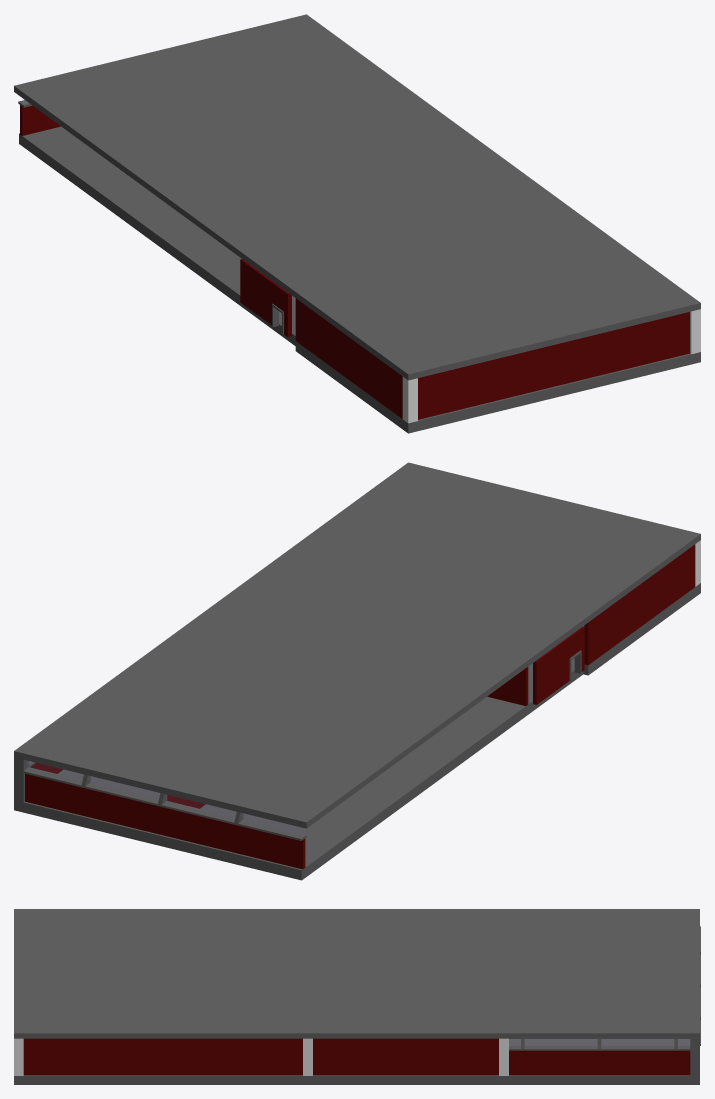
3 renders of one model, top to bottom at view 1: azimuth 30°, elevation 25°; view 2: azimuth 150°, elevation 25°; view 3: azimuth 270°, elevation 25°, orthographic. The views are drawn at different scales.
Visible parts, largest first — view 1: Крыща, LM, Стена_л_3, Стена_л_2, Взод_на_склад, Стена_, Балка_4_2м__1_Инстанция_5; view 2: Крыща, LM, Стена_, Стена_л_2, Рамка_, Взод_на_склад, Стекло, Destroying; view 3: Крыща, Стена_л_1, LM, Стена_л, Стена__1, Рамка__2, Стекло_2, Балка_4_2м__1, Балка_4_2м__1_Инстанция_4, Балка_4_2м__1_Инстанция_2, Балка_4_2м__1_Инстанция_1.
Part boxes in pixels (x1,y1,x2,y2): Крыща: [14, 14, 700, 380]; LM: [19, 126, 700, 433]; Стена_л_3: [418, 312, 689, 419]; Стена_л_2: [295, 298, 402, 418]; Взод_на_склад: [240, 259, 291, 337]; Стена_: [20, 105, 60, 135]; Балка_4_2м__1_Инстанция_5: [402, 377, 417, 423]; Крыща: [14, 462, 700, 828]; LM: [14, 583, 700, 880]; Стена_: [25, 774, 305, 869]; Стена_л_2: [584, 544, 695, 665]; Рамка_: [23, 761, 306, 840]; Взод_на_склад: [533, 626, 584, 704]; Стекло: [27, 761, 304, 835]; Destroying: [167, 667, 528, 808]; Крыща: [14, 909, 699, 1038]; Стена_л_1: [23, 1038, 302, 1075]; LM: [14, 1039, 699, 1084]; Стена_л: [313, 1038, 498, 1075]; Стена__1: [509, 1050, 690, 1075]; Рамка__2: [509, 1038, 690, 1050]; Стекло_2: [509, 1039, 689, 1045]; Балка_4_2м__1: [690, 1038, 699, 1075]; Балка_4_2м__1_Инстанция_4: [14, 1038, 23, 1075]; Балка_4_2м__1_Инстанция_2: [303, 1038, 312, 1075]; Балка_4_2м__1_Инстанция_1: [499, 1038, 508, 1075].
Bounding box in the file's own units: 3040 × 580 × 7010.
